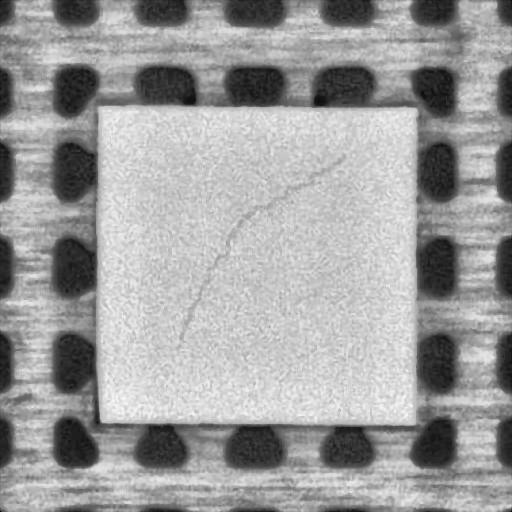DIE_CRACK: (172, 154, 341, 351)
